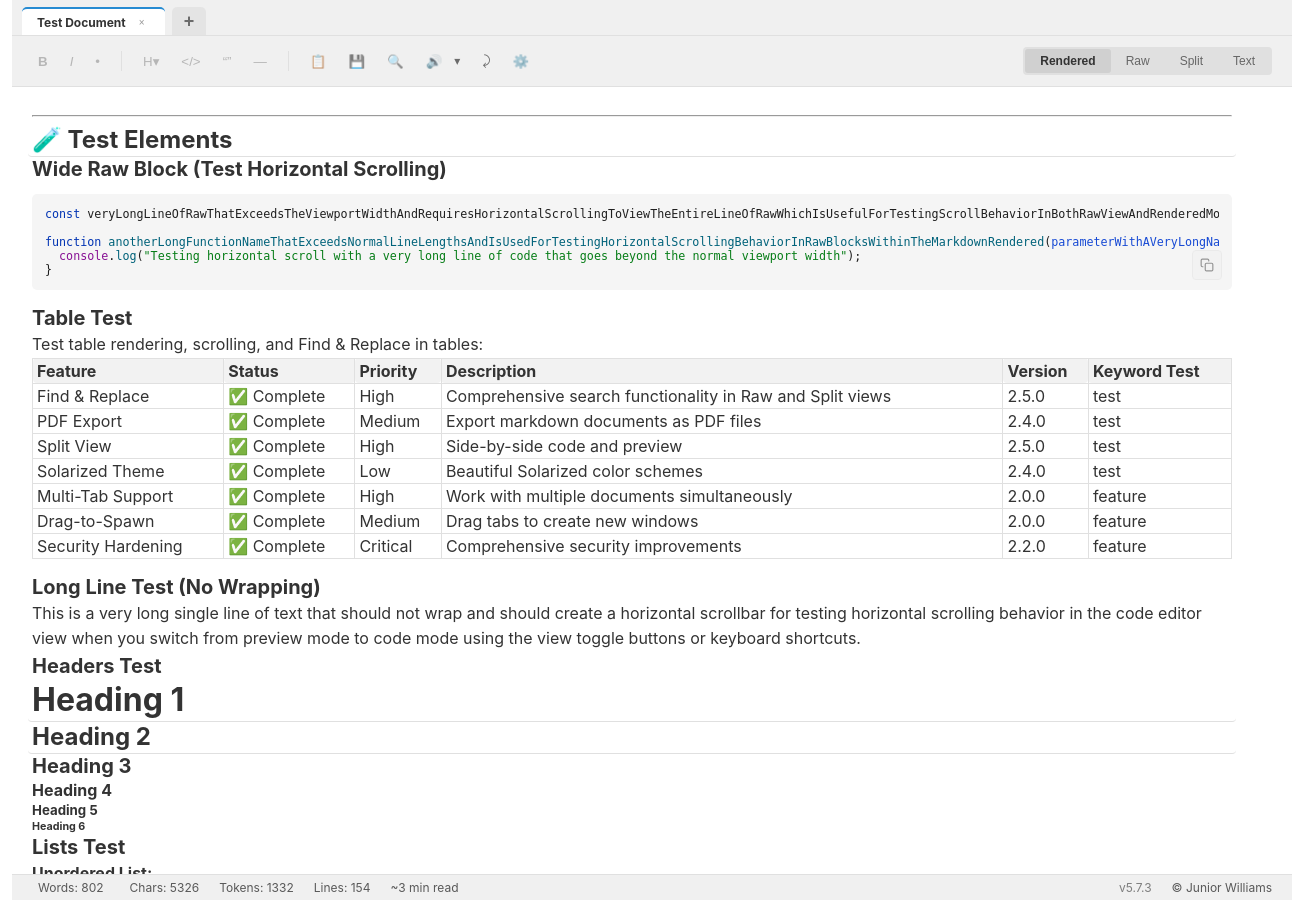
Test case: App Integration Tests › Status Bar › should update word count when content changes
Note: Create new document and switch to Raw view
Click the button named "New document" at coordinates (189, 21), box [172, 7, 206, 35]
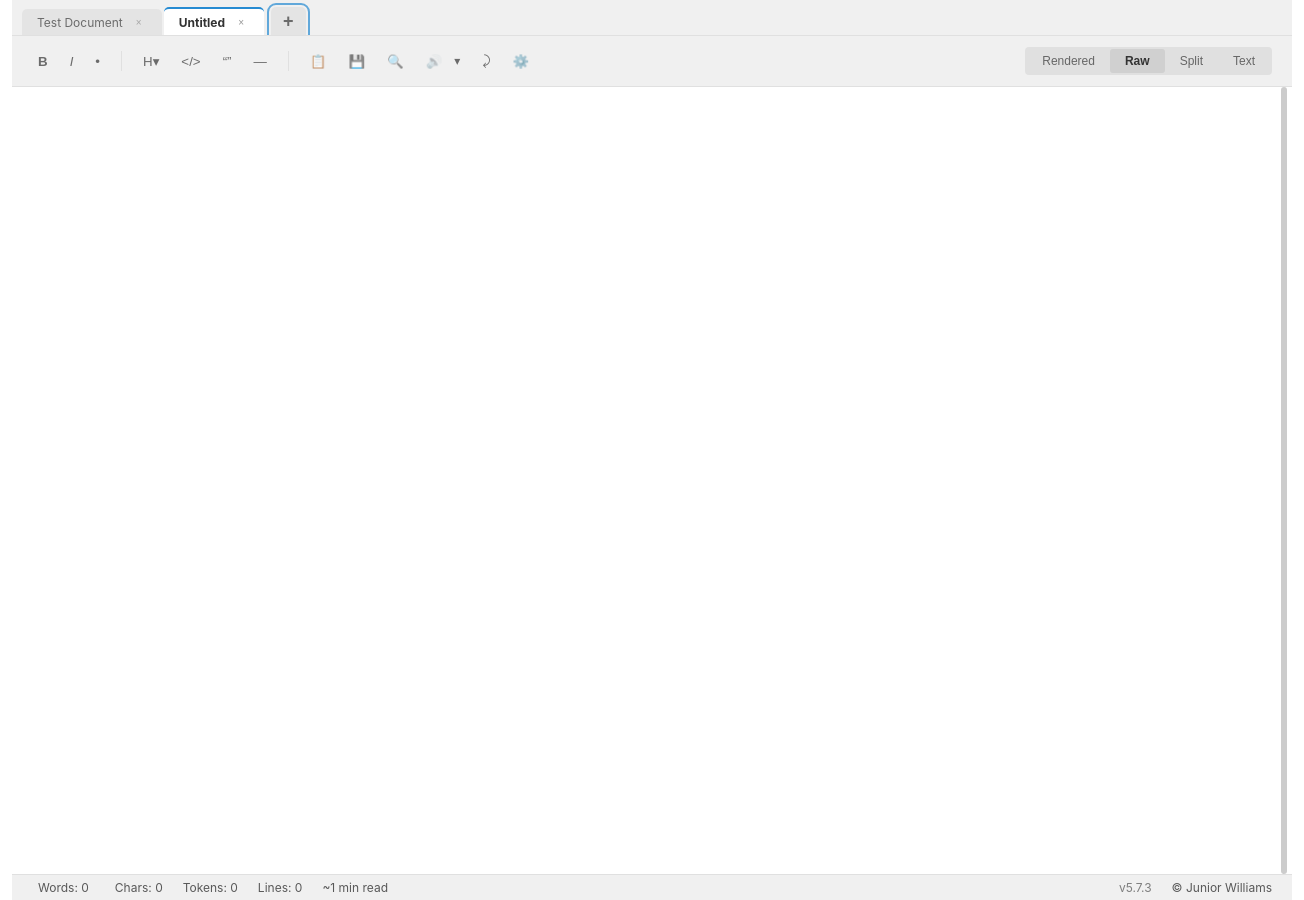
Type "one two three" into the text box at coordinates (652, 480), box [12, 87, 1292, 874]
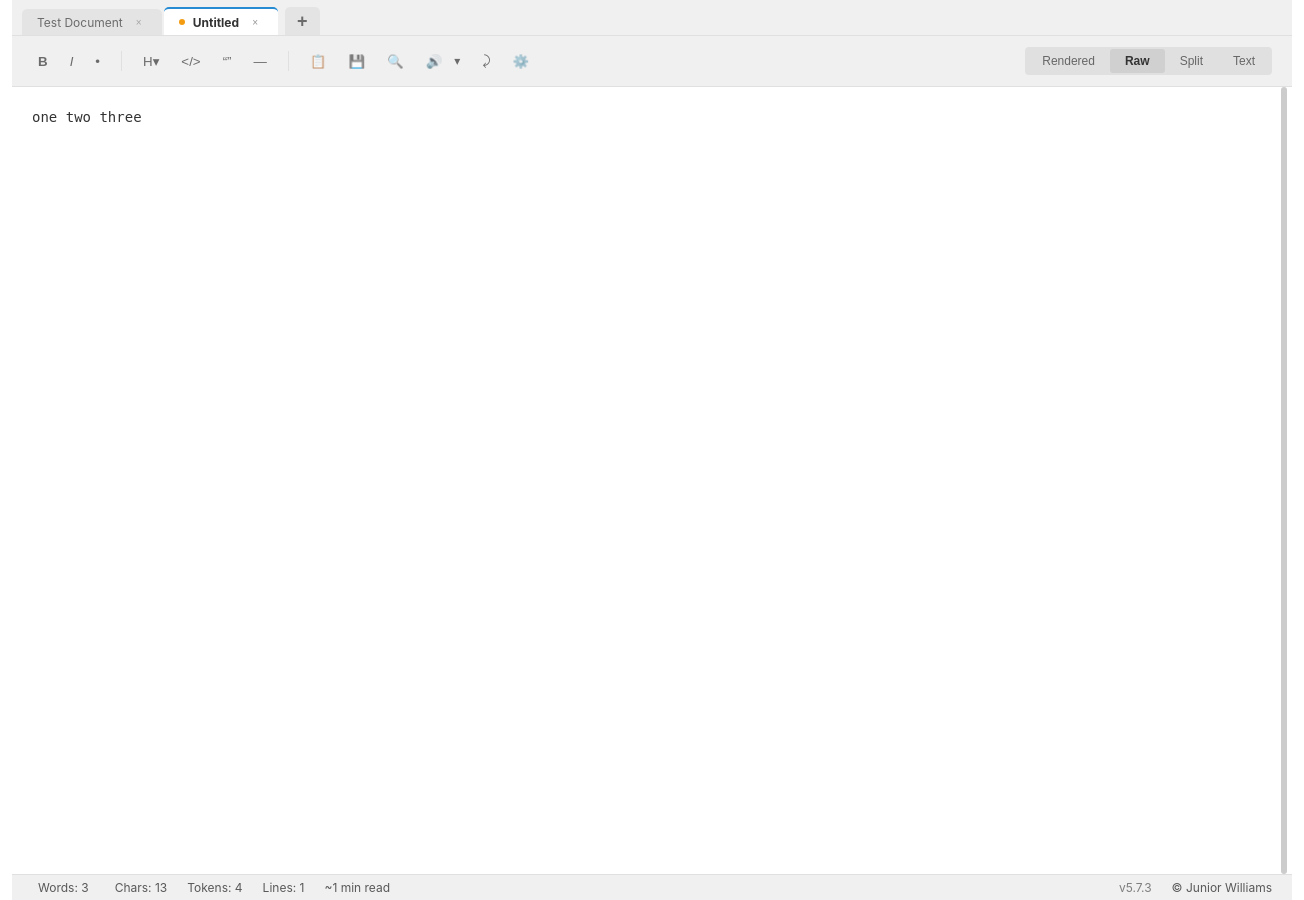
Expected: the button "Words: 3" is shown, [32, 878, 95, 897]
